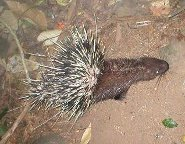porcupine: (21, 30, 175, 116)
